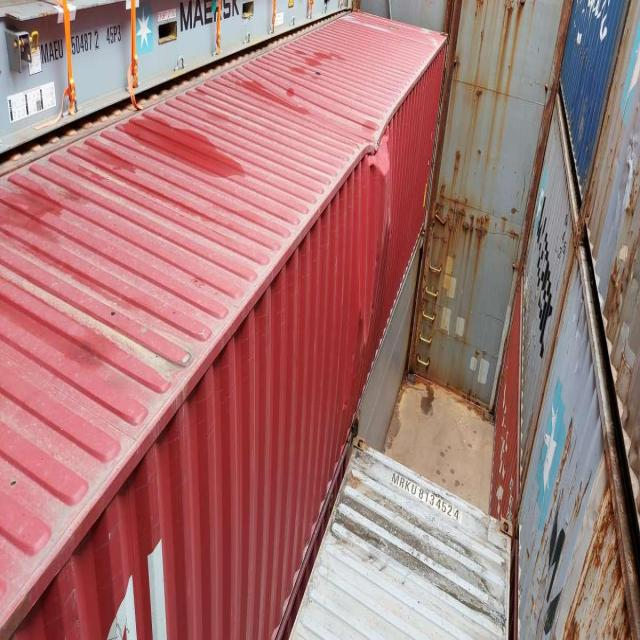dent: (351, 178, 392, 374), (260, 72, 348, 147), (360, 126, 390, 167)
